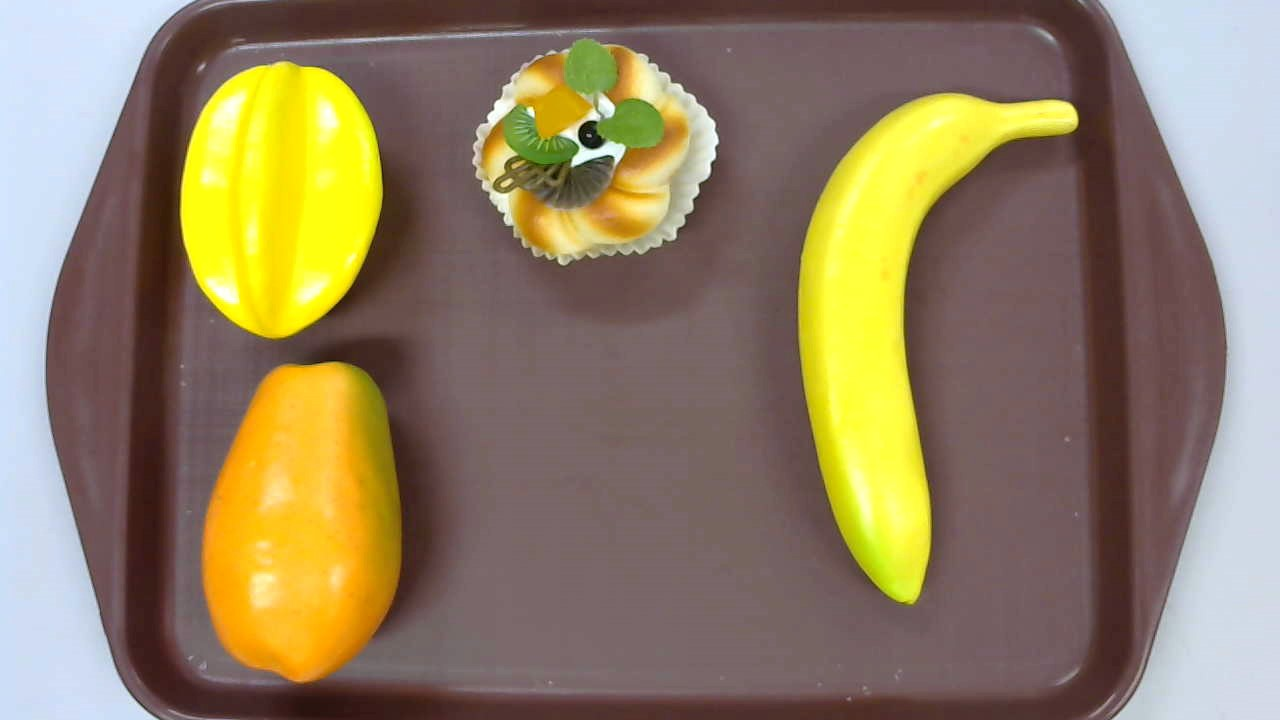banana: (798, 91, 1078, 604)
fruit tart: (472, 38, 722, 267)
papya: (202, 359, 402, 684)
star fruit: (179, 59, 385, 338)
